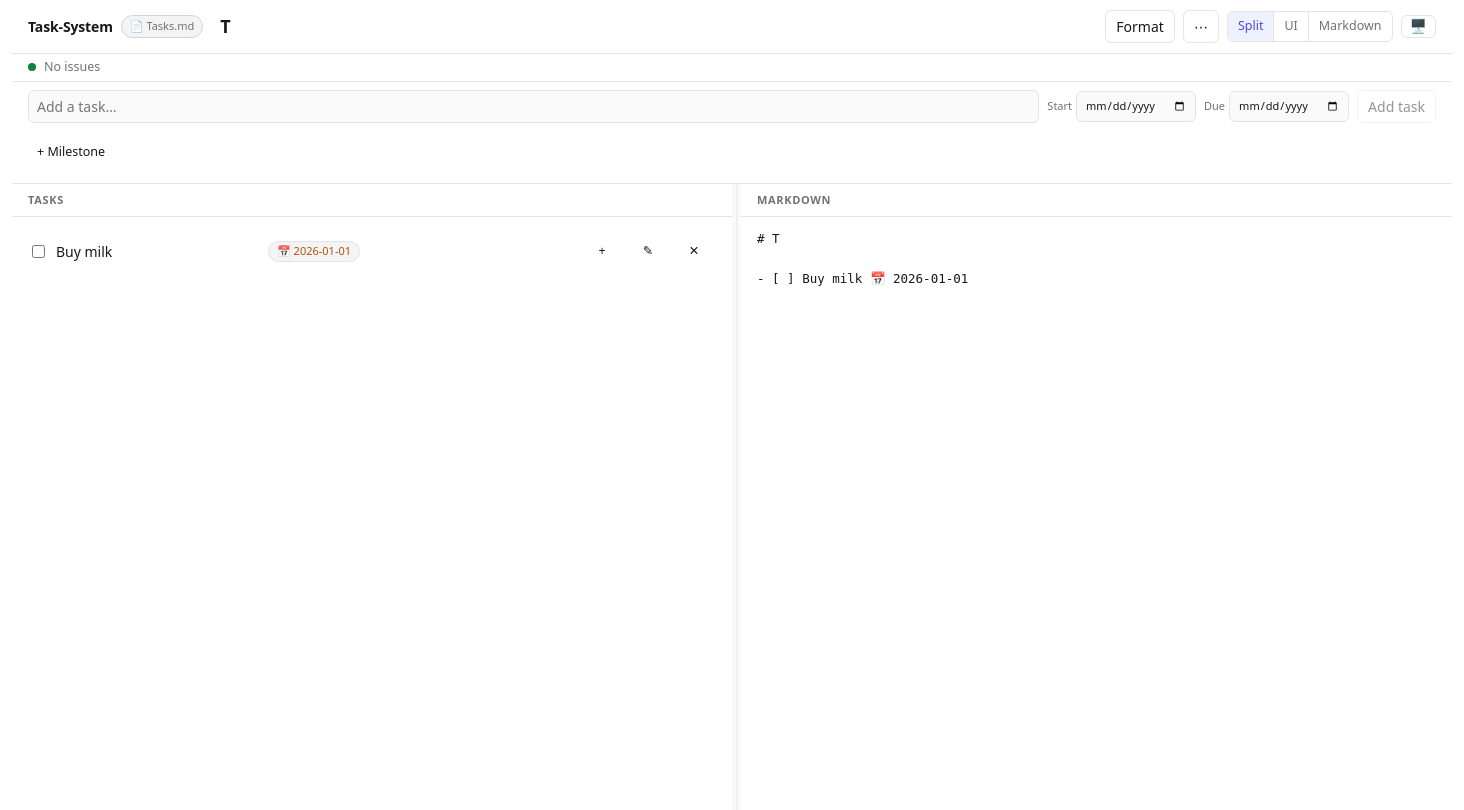
Test: pane layout › switches between UI and Markdown single-pane views
Check: the text "📄 Tasks.md" is shown, box [121,15,203,38]
Click the button "Markdown" at (1350, 26), box [1308,12,1392,41]
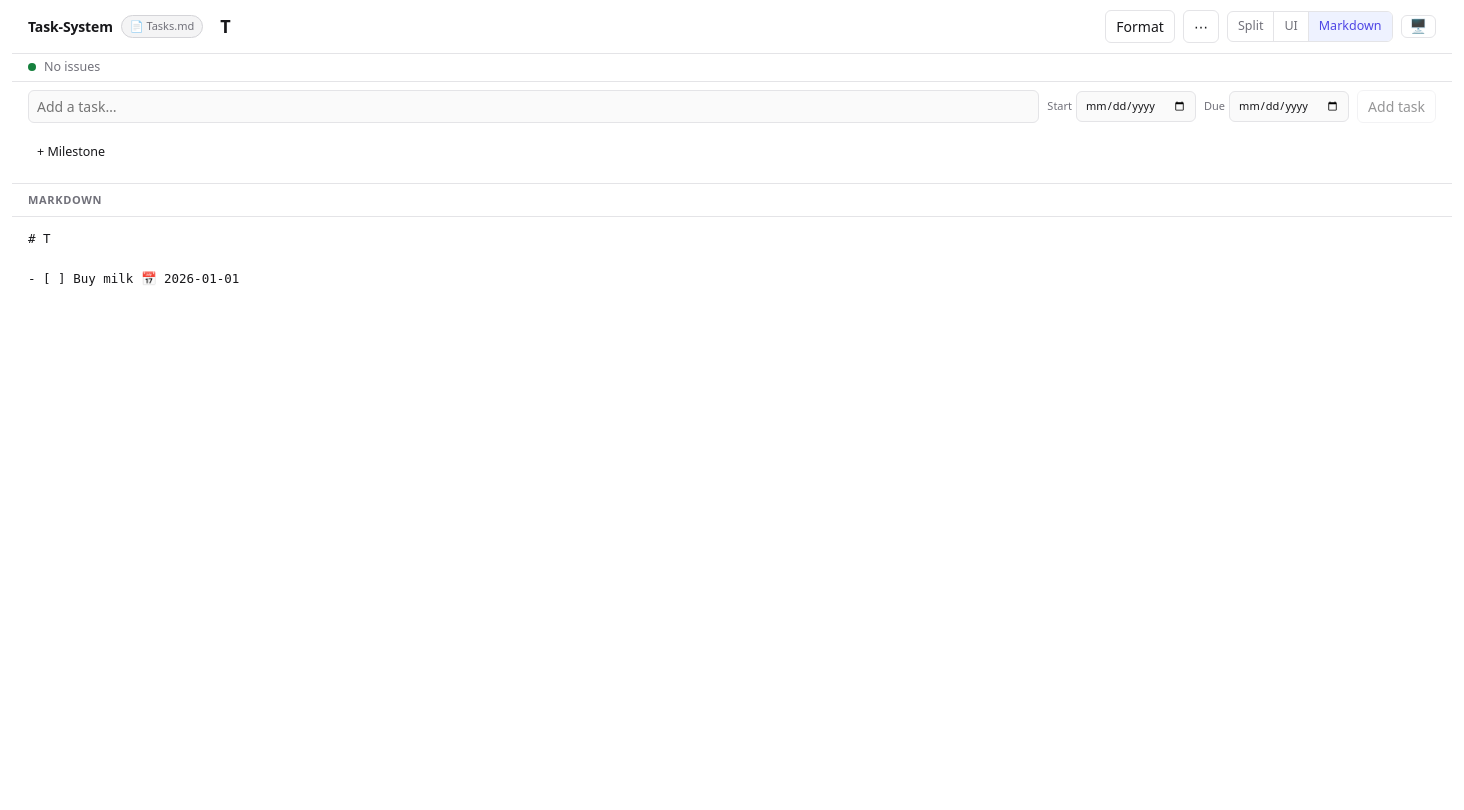
Check: the heading "Markdown" is shown, box [12,184,1452,217]
Click the button "UI" at (1291, 26), box [1273,12,1308,41]
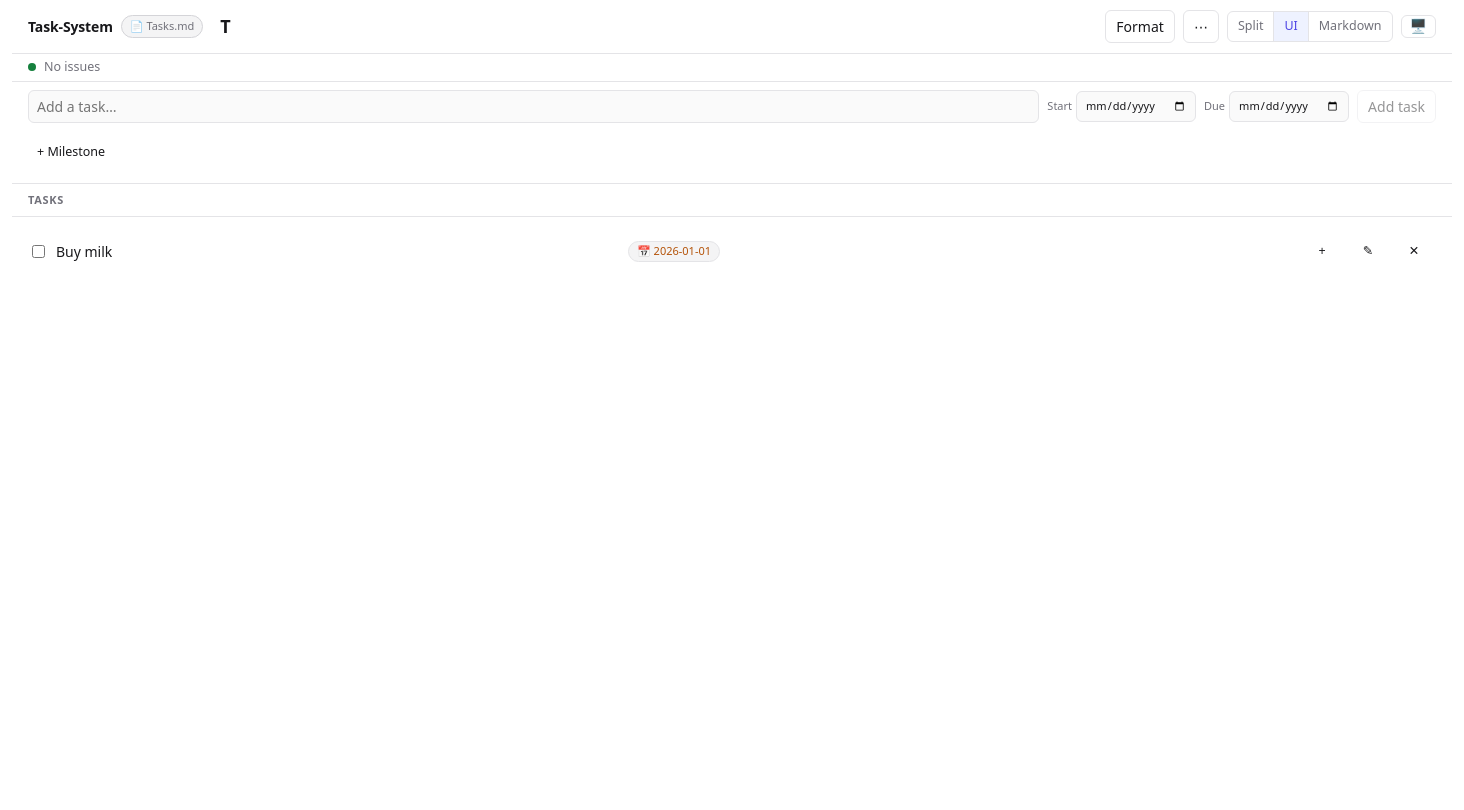
Check: the heading "Tasks" is shown, box [12,184,1452,217]
